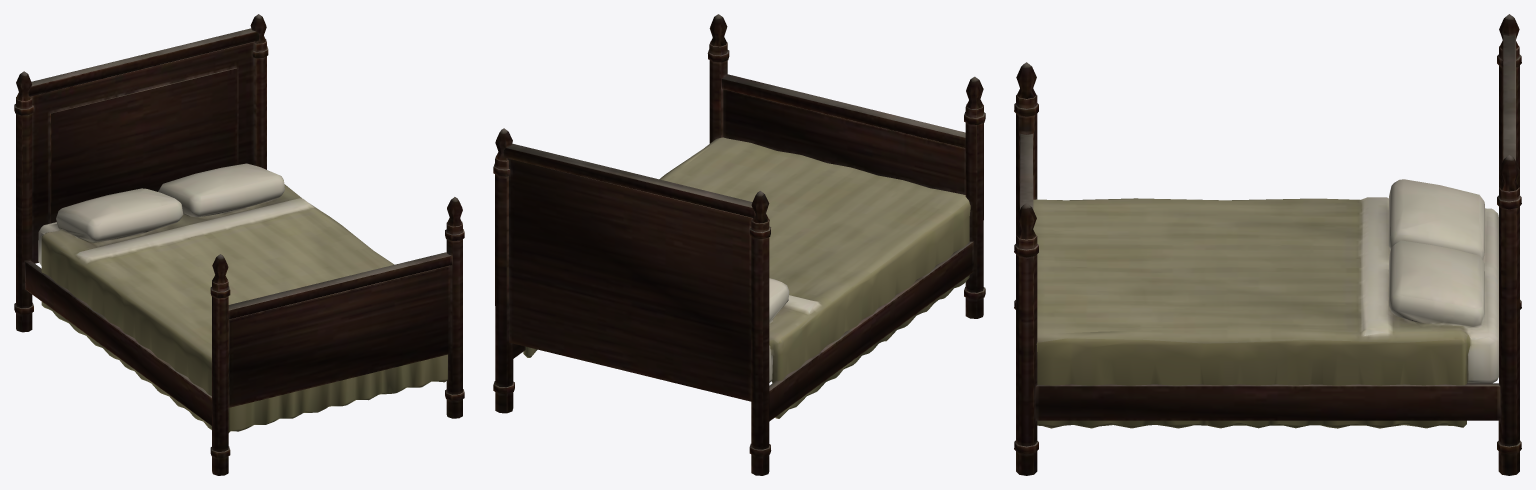
The model's file is bed_double-low.glb.
3 renders of one model, left to right at view 1: azimuth 30°, elevation 25°; view 2: azimuth 150°, elevation 25°; view 3: azimuth 270°, elevation 25°, orthographic. The views are drawn at different scales.
Parts seen in each view (by area): view 1: bed_double-low; view 2: bed_double-low; view 3: bed_double-low.
Boxes of the visible parts, <box> form: bed_double-low: <box>14,14,464,475</box>; bed_double-low: <box>493,14,985,475</box>; bed_double-low: <box>1014,14,1521,475</box>.
Bounding box in the file's own units: 1.48 × 1.45 × 2.1.
1 material, 1 textured.
